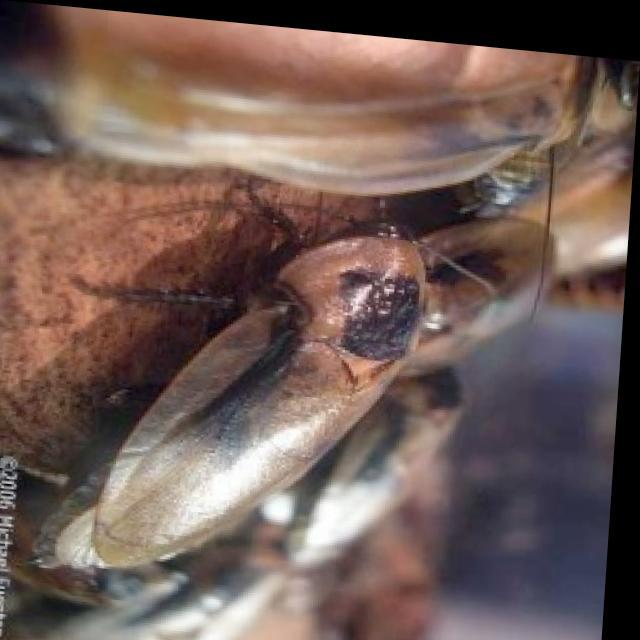cockroach: (51, 199, 489, 599)
